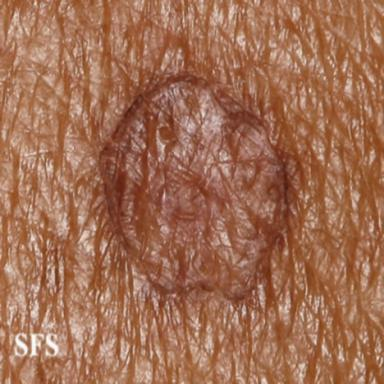Porokeratosis: (101, 73, 291, 300)
